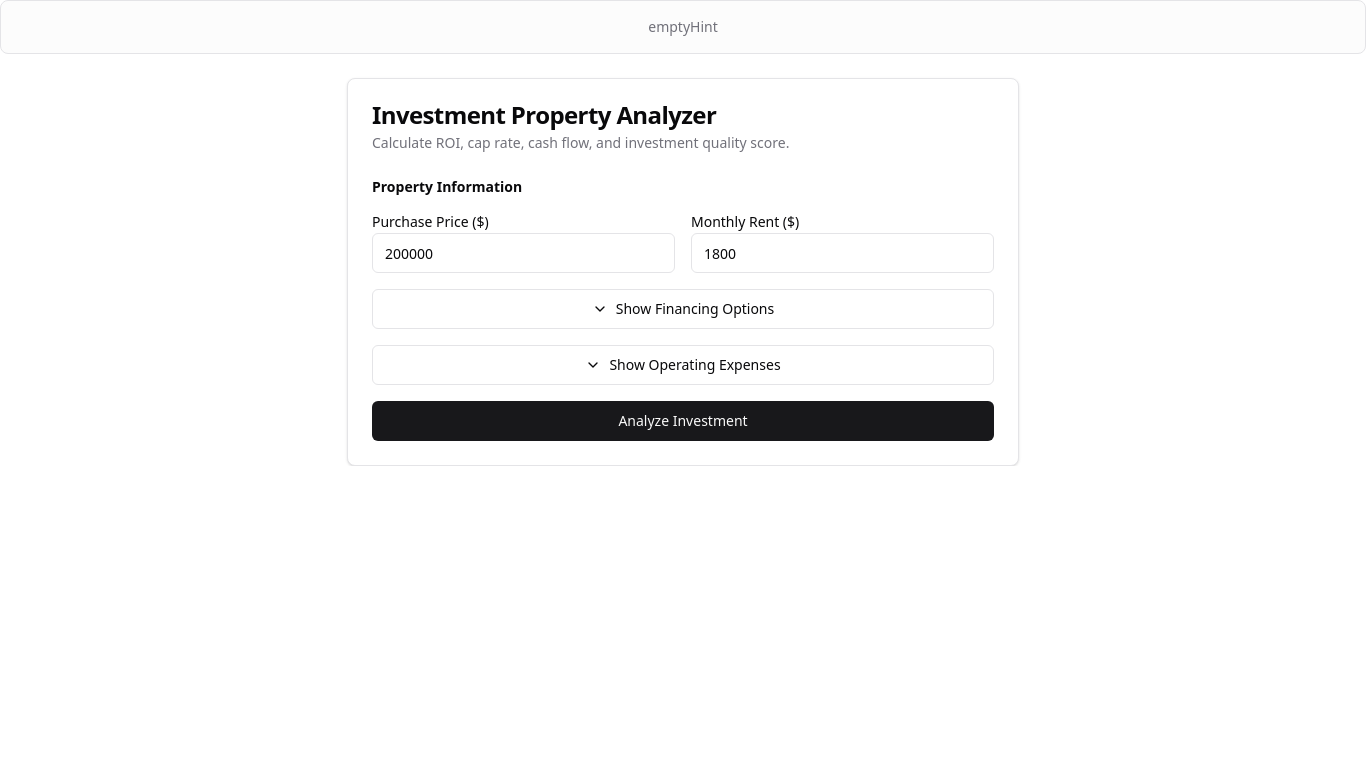
Scenario: InvestmentAnalyzer › shows financing options when toggled
Expected: the field labelled "Down Payment" is not shown
Click the button "Show Financing Options" at (683, 309), box [372,289,994,329]
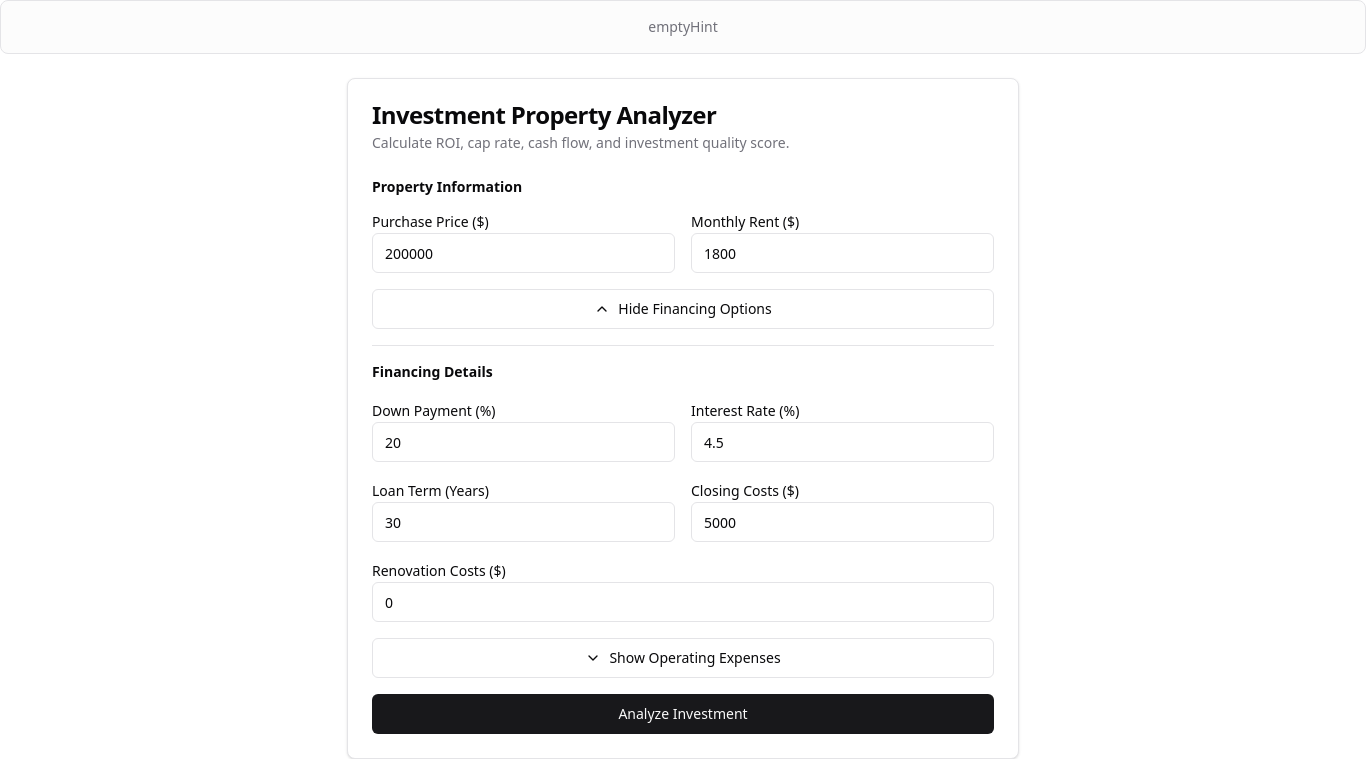
Now the number field labelled "Down Payment (%)" is shown, box [372,422,675,462]
Now the number field labelled "Interest Rate (%)" is shown, box [691,422,994,462]
Now the number field labelled "Loan Term (Years)" is shown, box [372,502,675,542]
